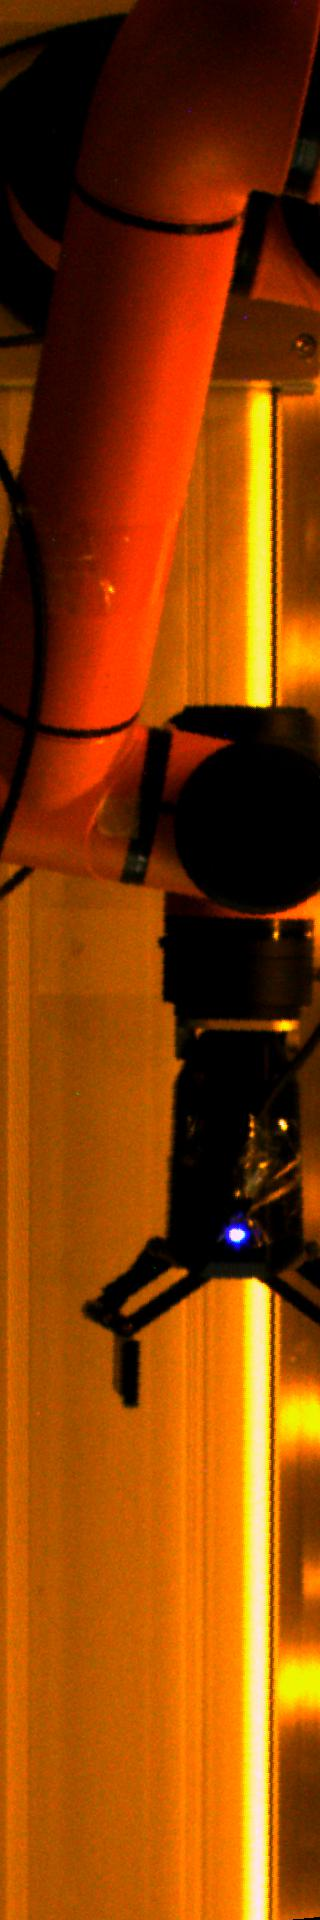keyPoint_1: (222, 1217, 253, 1247)
